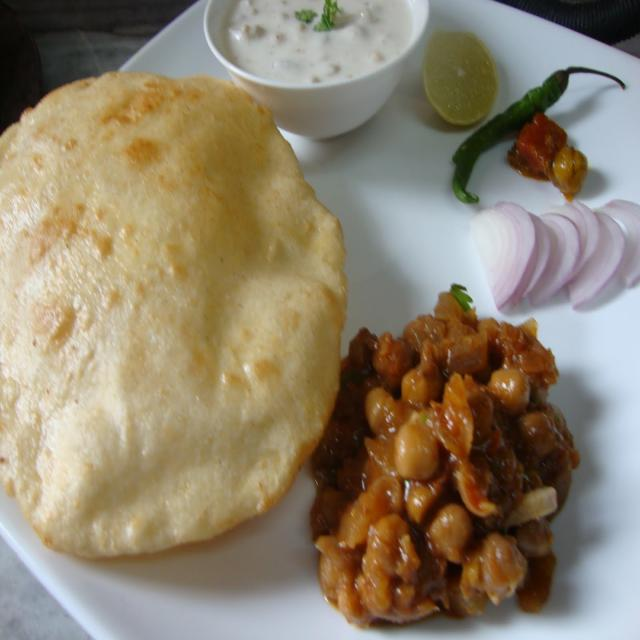Bhatura: (1, 70, 346, 560)
Chole: (316, 293, 578, 626)
